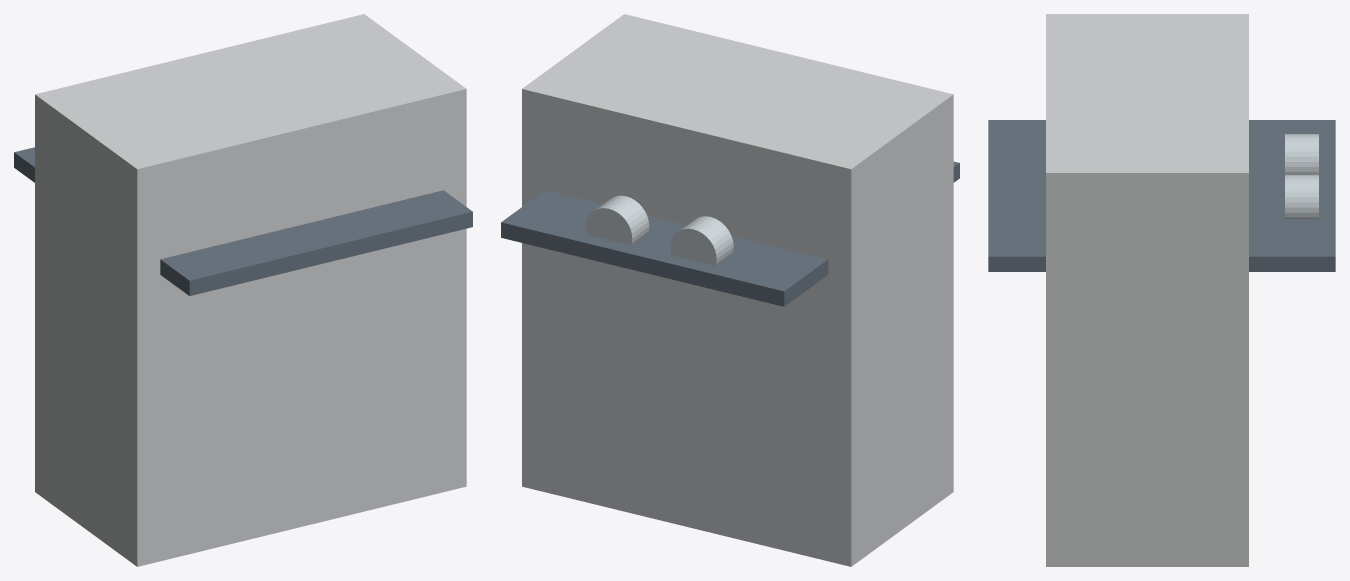
File: psu_dc.glb
3 views of the same model, side by side, from view 1: azimuth 30°, elevation 25°; view 2: azimuth 150°, elevation 25°; view 3: azimuth 270°, elevation 25° (orthographic).
Parts seen in each view (by area): view 1: psu_dc_0, psu_dc_1; view 2: psu_dc_0, psu_dc_1, psu_dc_4, psu_dc_5; view 3: psu_dc_0, psu_dc_1, psu_dc_5, psu_dc_4.
Boxes of the visible parts, x1=… form: psu_dc_0: x1=35, y1=14, x2=466, y2=566; psu_dc_1: x1=14, y1=147, x2=472, y2=295; psu_dc_0: x1=522, y1=14, x2=953, y2=566; psu_dc_1: x1=501, y1=161, x2=959, y2=306; psu_dc_4: x1=670, y1=216, x2=733, y2=266; psu_dc_5: x1=586, y1=195, x2=649, y2=245; psu_dc_0: x1=1046, y1=14, x2=1248, y2=566; psu_dc_1: x1=988, y1=120, x2=1335, y2=271; psu_dc_5: x1=1285, y1=175, x2=1318, y2=219; psu_dc_4: x1=1285, y1=134, x2=1318, y2=174.
Size of the model in its own units: 0.78 by 0.9 by 0.72.
